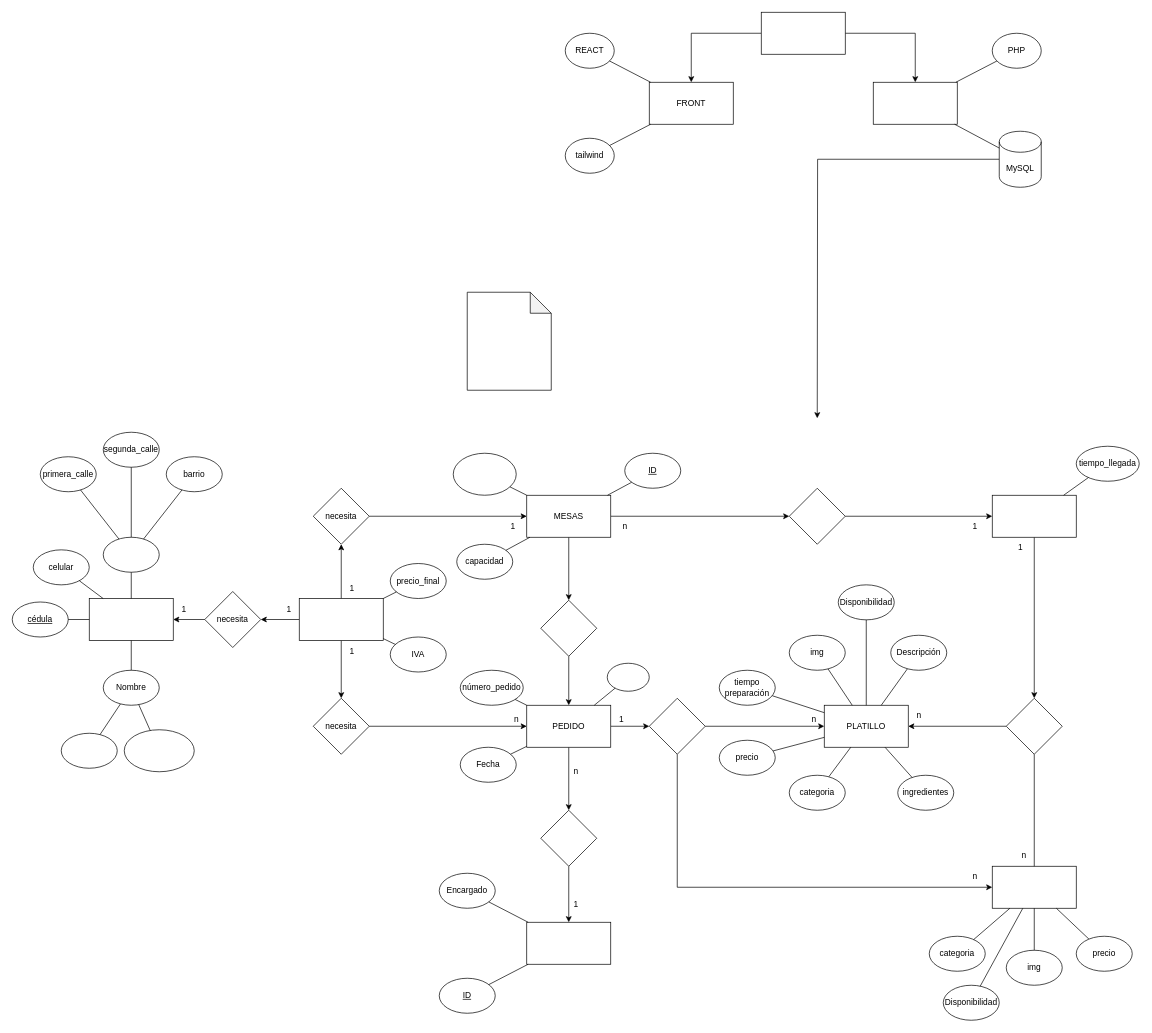
Image size: 1152x1033. Some labels were removed from this diagram. Here are the shapes that lost their labels. From the top down, the centre of each, then its label:
(x=803, y=33): SOFTWARE AUTOMATIZACIÓN
(x=915, y=103): BACK
(x=509, y=341): -registro de mesas -menú de platillos -envío automático a cocina
(x=484, y=474): numero de mesa
(x=817, y=516): accede a
(x=1034, y=516): MENÚ
(x=131, y=554): Dirección
(x=131, y=619): CLIENTE
(x=341, y=619): FACTURA
(x=568, y=628): realiza
(x=628, y=677): Costo
(x=677, y=726): posee
(x=1034, y=726): tiene
(x=89, y=750): primer_nom
(x=159, y=750): apellido_paterno
(x=568, y=838): Se envía a
(x=1034, y=887): BEBIDA
(x=568, y=943): COCINA
